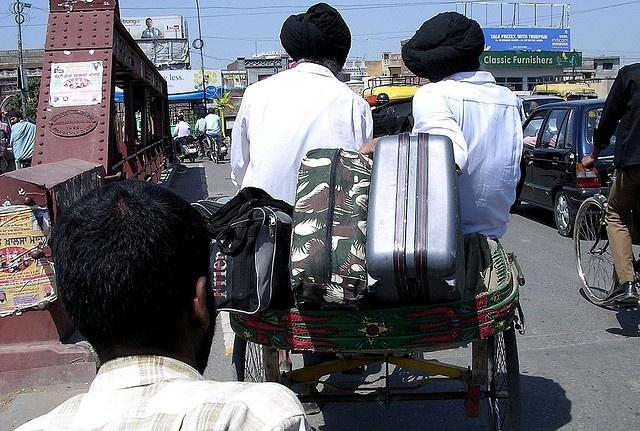car: (514, 96, 612, 236), (518, 93, 564, 127), (362, 81, 420, 107), (530, 80, 600, 101)
